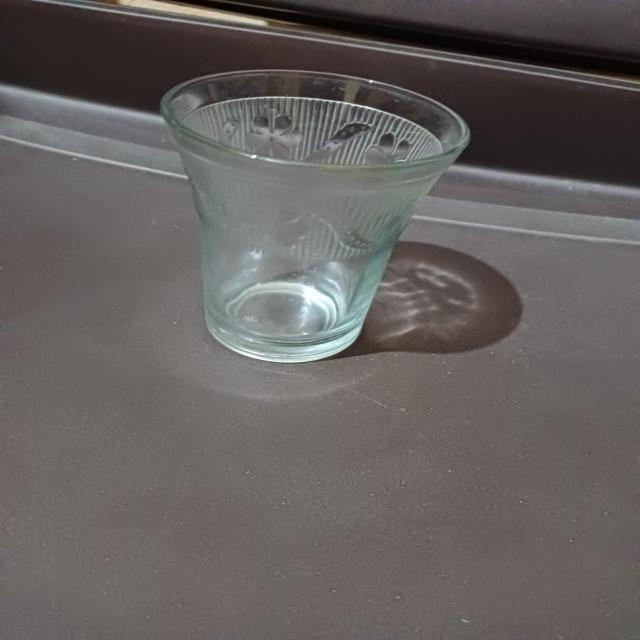cups: (158, 67, 471, 364)
